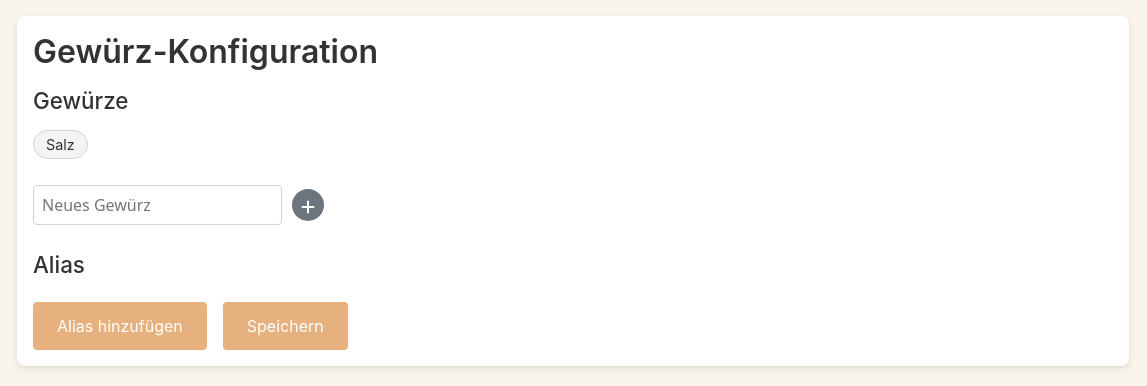
Scenario: SpiceRulesConfig › removes a spice when its tag is clicked
Check: the text "Gewürz-Konfiguration" is shown, box [33,32,378,71]
Click the text "Salz" at x=60, y=144, box [33,130,88,159]
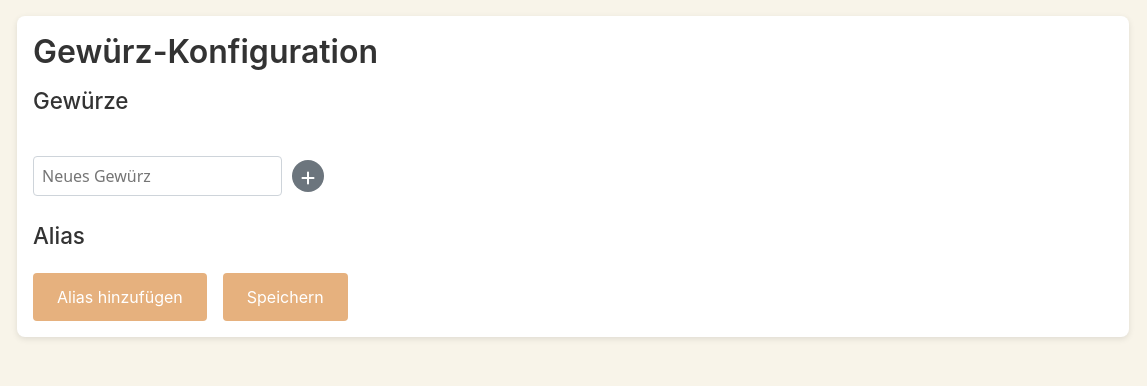
Check: the text "Salz" is gone
